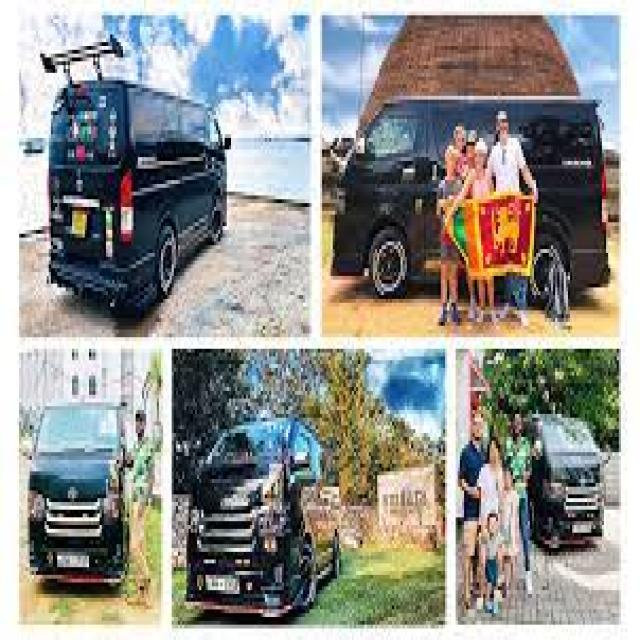person: (487, 111, 536, 310), (125, 353, 157, 606), (454, 142, 492, 322), (458, 414, 483, 606), (504, 410, 530, 590), (437, 146, 460, 322), (500, 468, 517, 598), (479, 437, 500, 521), (483, 514, 500, 613), (454, 123, 473, 180)
van: (333, 96, 608, 291), (49, 80, 227, 310), (186, 418, 339, 617), (30, 402, 125, 583), (530, 414, 600, 544)
